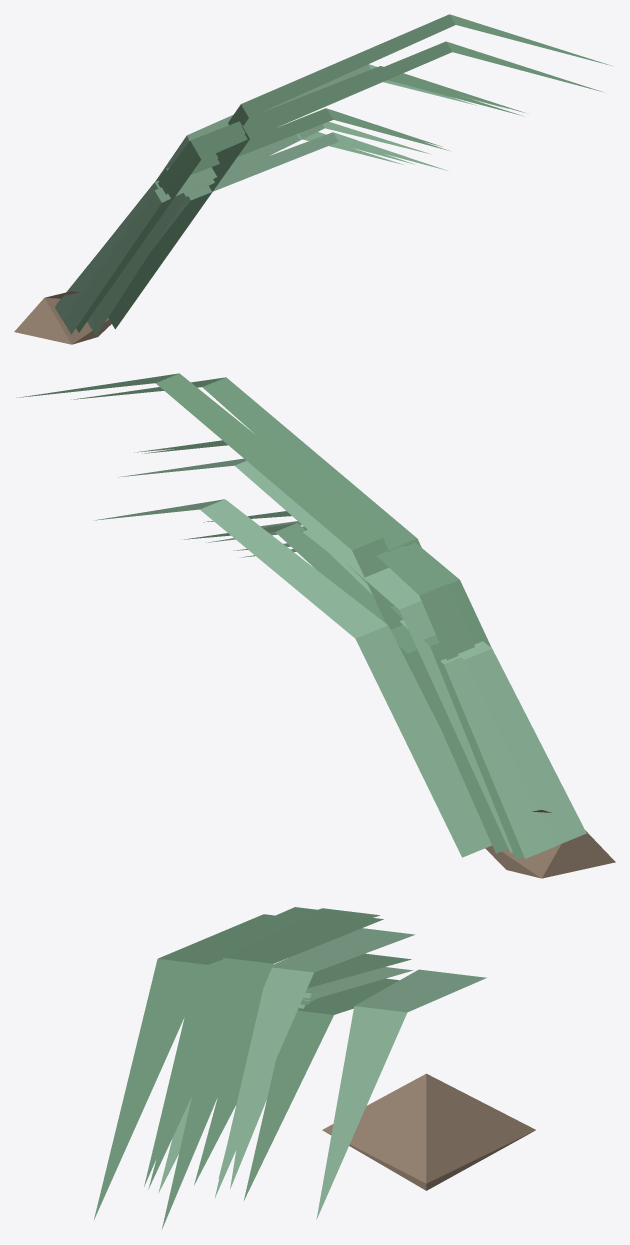
Rendered from shui.kucao@subadult__summer.glb.
The picture shows the model from 3 angles, top to bottom: view 1: azimuth 30°, elevation 25°; view 2: azimuth 150°, elevation 25°; view 3: azimuth 270°, elevation 25°; orthographic projection. The views are drawn at different scales.
Visible parts, largest first — view 1: shui.kucao@subadult__summer; view 2: shui.kucao@subadult__summer; view 3: shui.kucao@subadult__summer.
Part boxes in pixels (x1,y1,x2,y2): shui.kucao@subadult__summer: [14, 14, 611, 344]; shui.kucao@subadult__summer: [17, 373, 615, 878]; shui.kucao@subadult__summer: [94, 907, 535, 1229].
Size of the model in its own units: 0.731 by 0.3594 by 0.2617.
